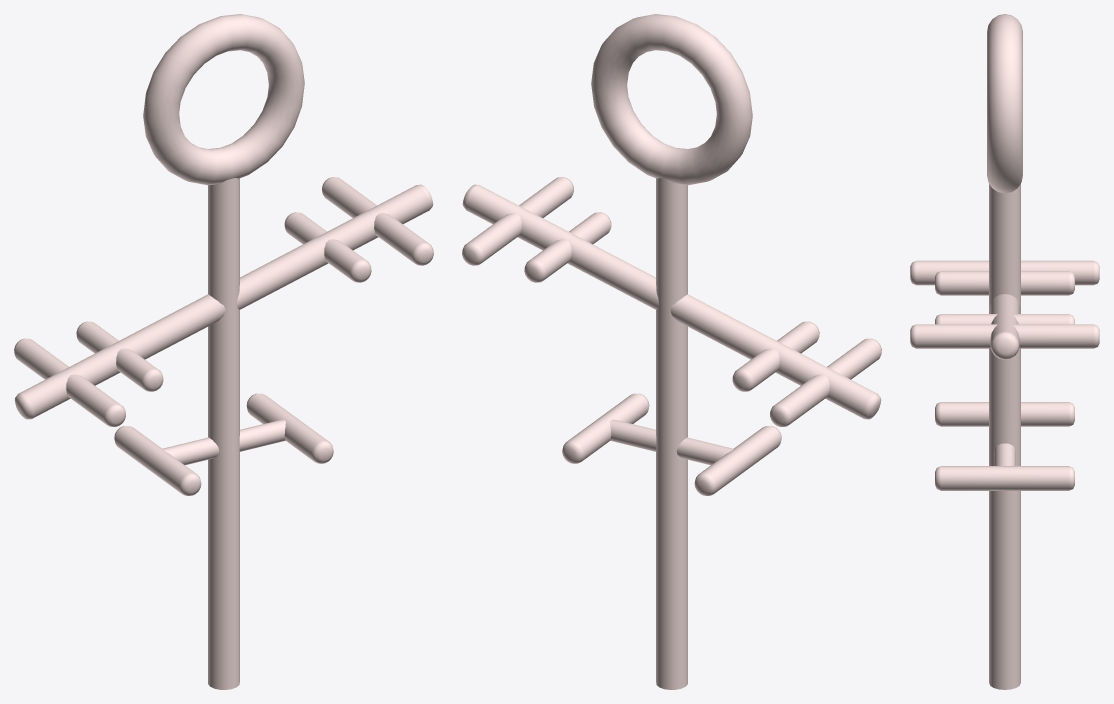
File: Farm_20_Antenna_1.glb
3 renders of one model, left to right at view 1: azimuth 30°, elevation 25°; view 2: azimuth 150°, elevation 25°; view 3: azimuth 270°, elevation 25°, orthographic.
Parts seen in each view (by area): view 1: Farm_20_Antenna_1; view 2: Farm_20_Antenna_1; view 3: Farm_20_Antenna_1.
Boxes of the visible parts, bbox=[...] form: Farm_20_Antenna_1: bbox=[14, 14, 433, 689]; Farm_20_Antenna_1: bbox=[462, 14, 881, 689]; Farm_20_Antenna_1: bbox=[910, 14, 1099, 689].
Size of the model in its own units: 0.9945 by 1.54 by 0.3995.
1 material, 1 textured.
